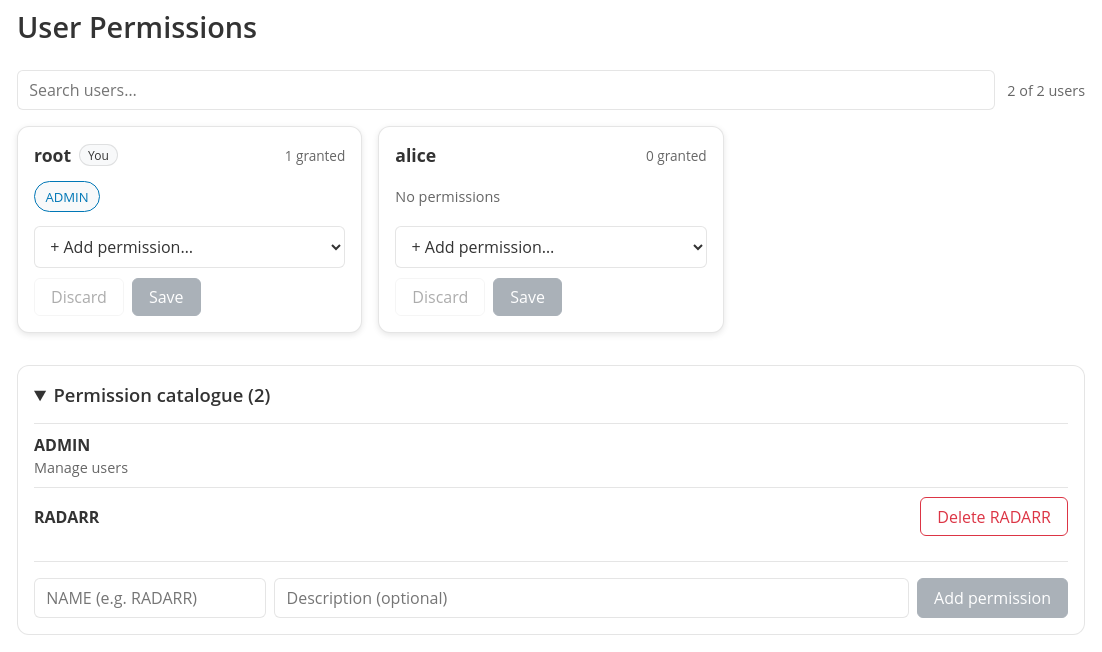
it: AdminUsers › discards unsaved edits
The image size is (1102, 652).
Select "RADARR" in the dropdown named "Add permission to alice" at [551, 247], box x1=395 y1=226 x2=707 y2=268
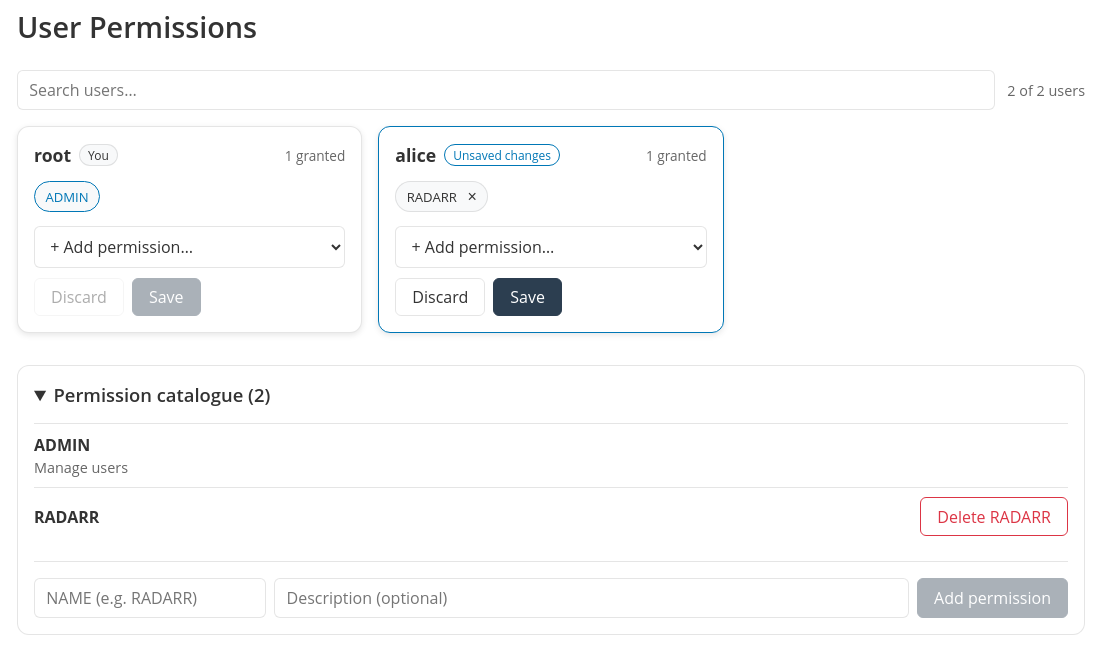
expect the list item "RADARR" is shown: met, box x1=407 y1=188 x2=457 y2=206
Click the button "Discard" below "alice" at [440, 297], box x1=395 y1=278 x2=485 y2=316
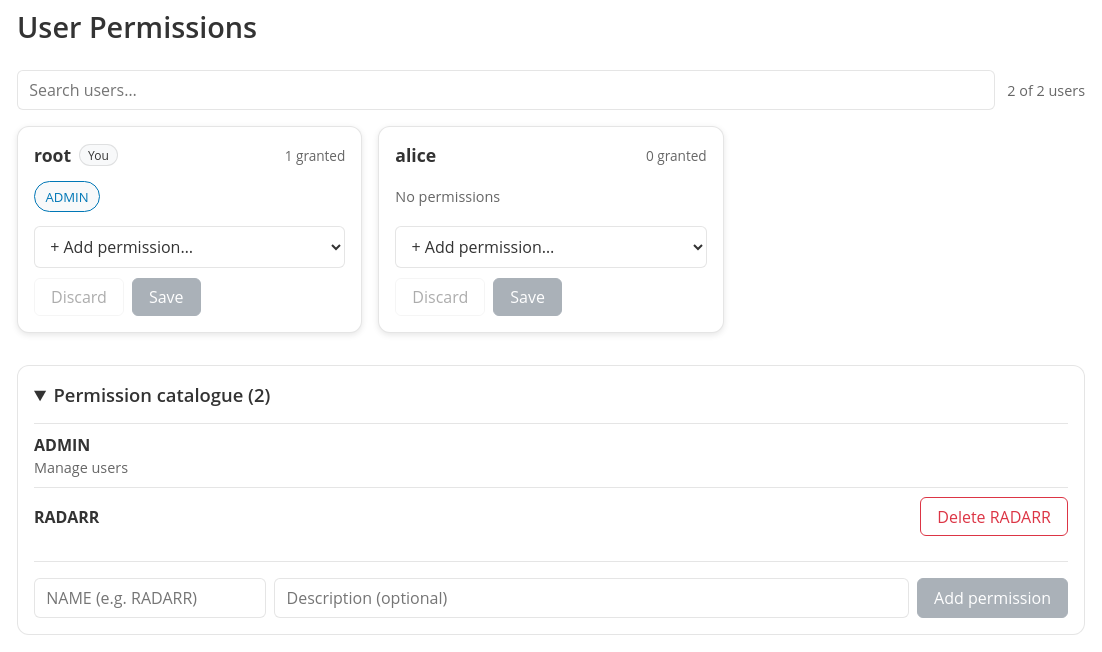
expect the list item "No permissions" is shown: met, box x1=395 y1=187 x2=500 y2=206
expect the button "Save" below "alice" is disabled: met, box x1=493 y1=278 x2=562 y2=316
